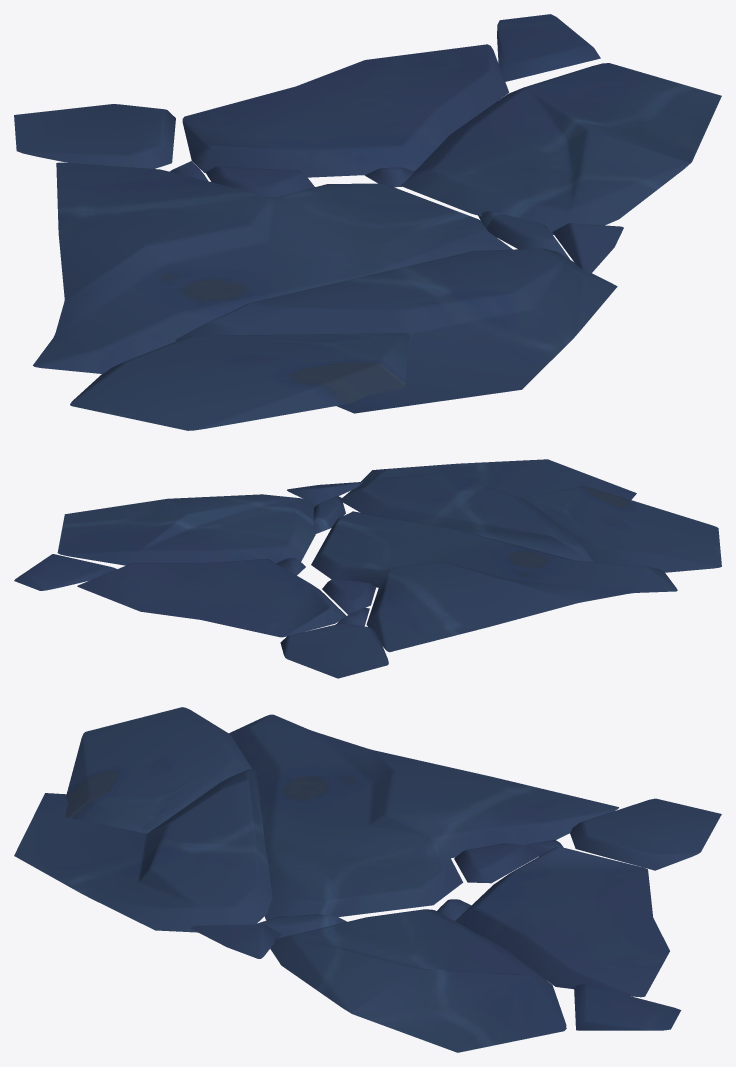
Rendered from SM_Discord_Terrain_Chunk_02.fbx.
3 views of the same model, one above another, from view 1: azimuth 30°, elevation 25°; view 2: azimuth 150°, elevation 25°; view 3: azimuth 270°, elevation 25° (orthographic). The views are drawn at different scales.
Visible parts, largest first — view 1: SM_Discord_Terrain_Chunk_02; view 2: SM_Discord_Terrain_Chunk_02; view 3: SM_Discord_Terrain_Chunk_02.
Part boxes in pixels (<box>): SM_Discord_Terrain_Chunk_02: <box>14,14,721,430</box>; SM_Discord_Terrain_Chunk_02: <box>14,459,721,678</box>; SM_Discord_Terrain_Chunk_02: <box>14,707,721,1052</box>.
Bounding box in the file's own units: 1019 × 34.43 × 890.
